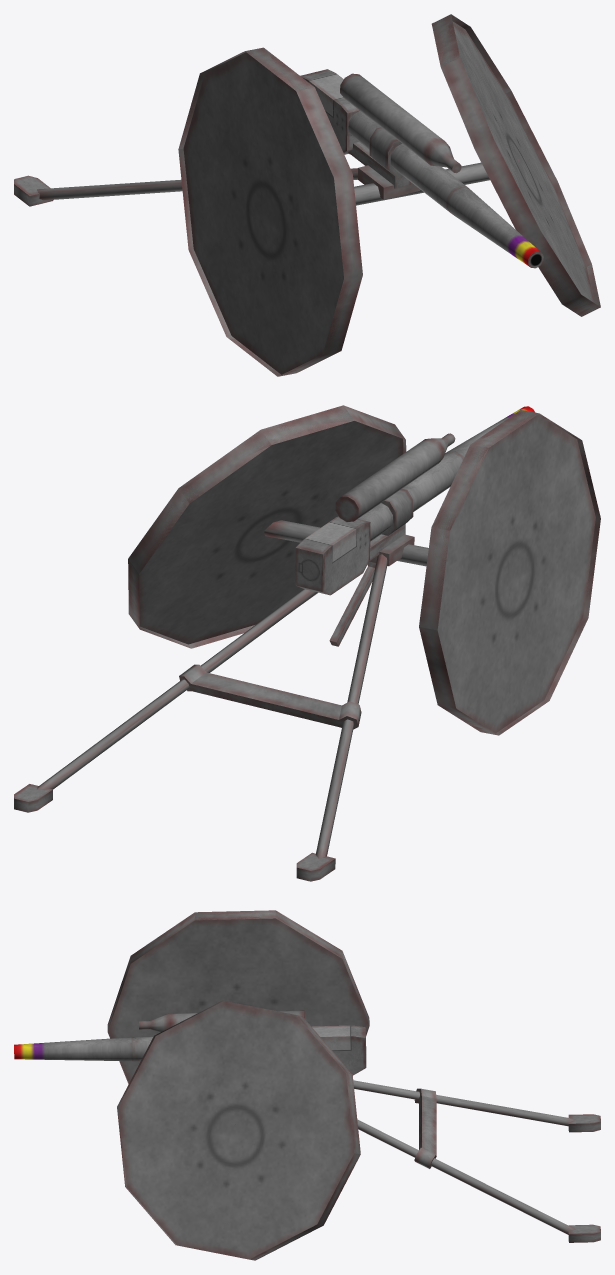
File: esrarellano40mm_Destroyed.dae
3 renders of one model, top to bottom at view 1: azimuth 30°, elevation 25°; view 2: azimuth 150°, elevation 25°; view 3: azimuth 270°, elevation 25°, orthographic. The views are drawn at different scales.
Parts seen in each view (by area): view 1: wheels, sleeve, barrel, carriage; view 2: wheels, carriage, sleeve, barrel; view 3: wheels, carriage, barrel, sleeve.
Part boxes in pixels (x1=…): wheels: x1=178, y1=14, x2=600, y2=376; sleeve: x1=300, y1=69, x2=461, y2=188; barrel: x1=348, y1=111, x2=543, y2=268; carriage: x1=14, y1=152, x2=419, y2=206; wheels: x1=128, y1=405, x2=600, y2=735; carriage: x1=14, y1=534, x2=414, y2=881; sleeve: x1=295, y1=433, x2=455, y2=595; barrel: x1=358, y1=406, x2=535, y2=541; wheels: x1=107, y1=910, x2=369, y2=1260; carriage: x1=353, y1=1080, x2=600, y2=1242; barrel: x1=14, y1=1036, x2=153, y2=1061; sleeve: x1=139, y1=1010, x2=366, y2=1075.
Size of the model in its own units: 8.99 by 15.69 by 6.76.
